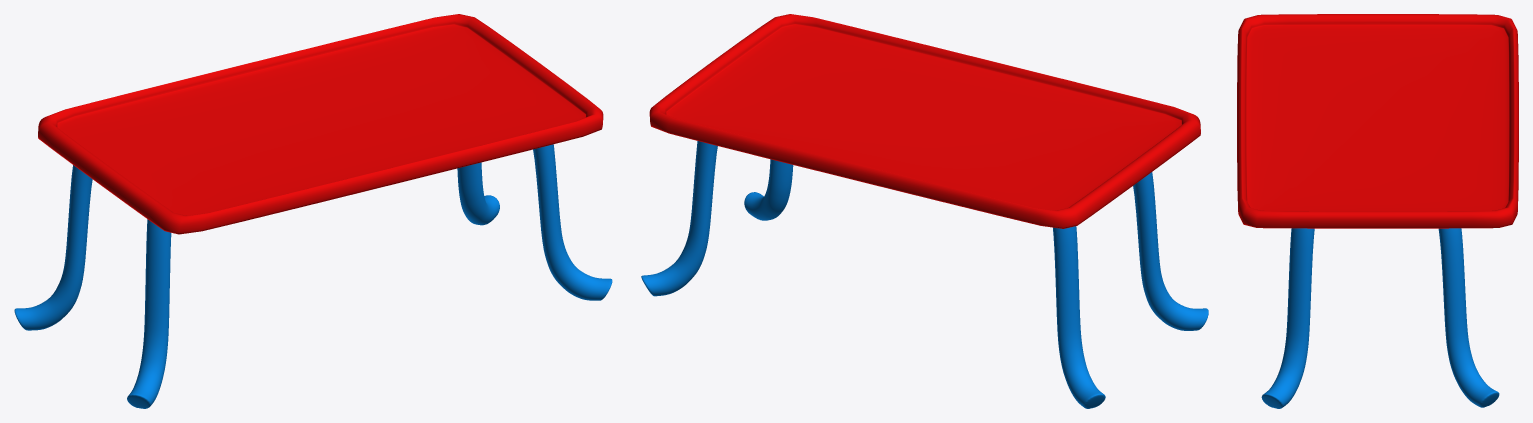
The model's file is table2.fbx.
3 views of the same model, side by side, from view 1: azimuth 30°, elevation 25°; view 2: azimuth 150°, elevation 25°; view 3: azimuth 270°, elevation 25° (orthographic). The views are drawn at different scales.
Parts seen in each view (by area): view 1: table_2; view 2: table_2; view 3: table_2.
Boxes of the visible parts, left/top/right/bottom form: table_2: left=14, top=14, right=612, bottom=408; table_2: left=641, top=14, right=1208, bottom=408; table_2: left=1237, top=14, right=1518, bottom=408.
Bounding box in the file's own units: 187 × 75.34 × 99.54.
